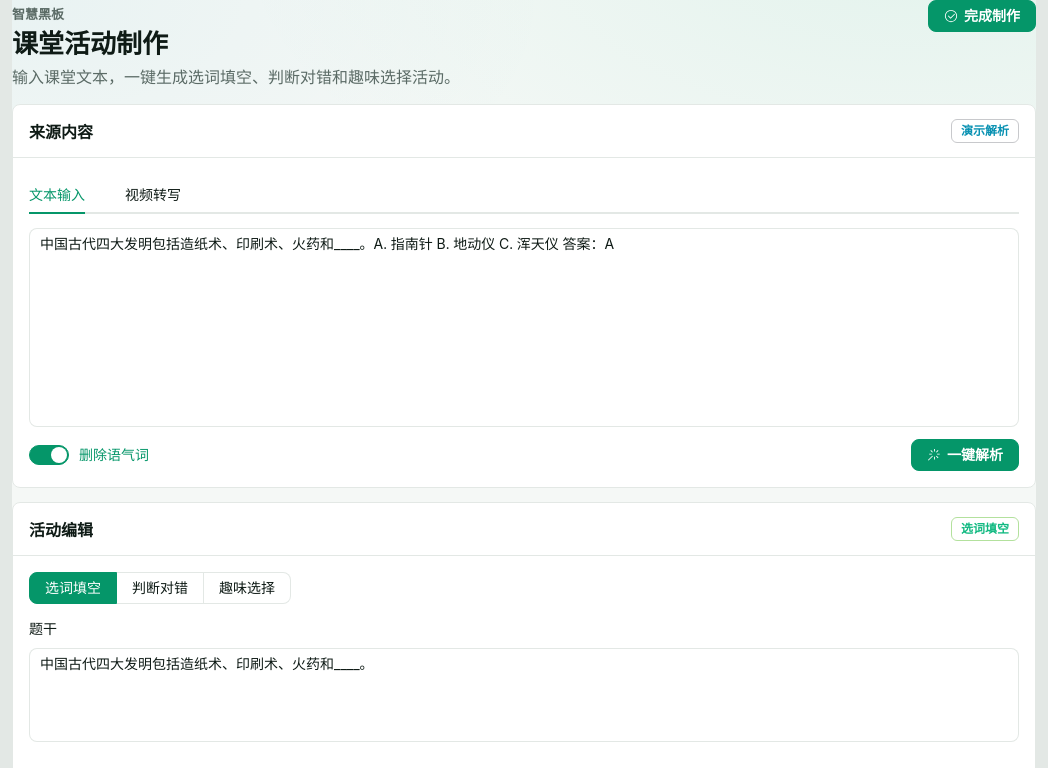
SmartBlackboardView › rebuilds options when switching from judgement back to cloze
Step 1. Click the radio button with test id "blackboard-type-judgement" → (160, 588), box [117, 572, 204, 604]
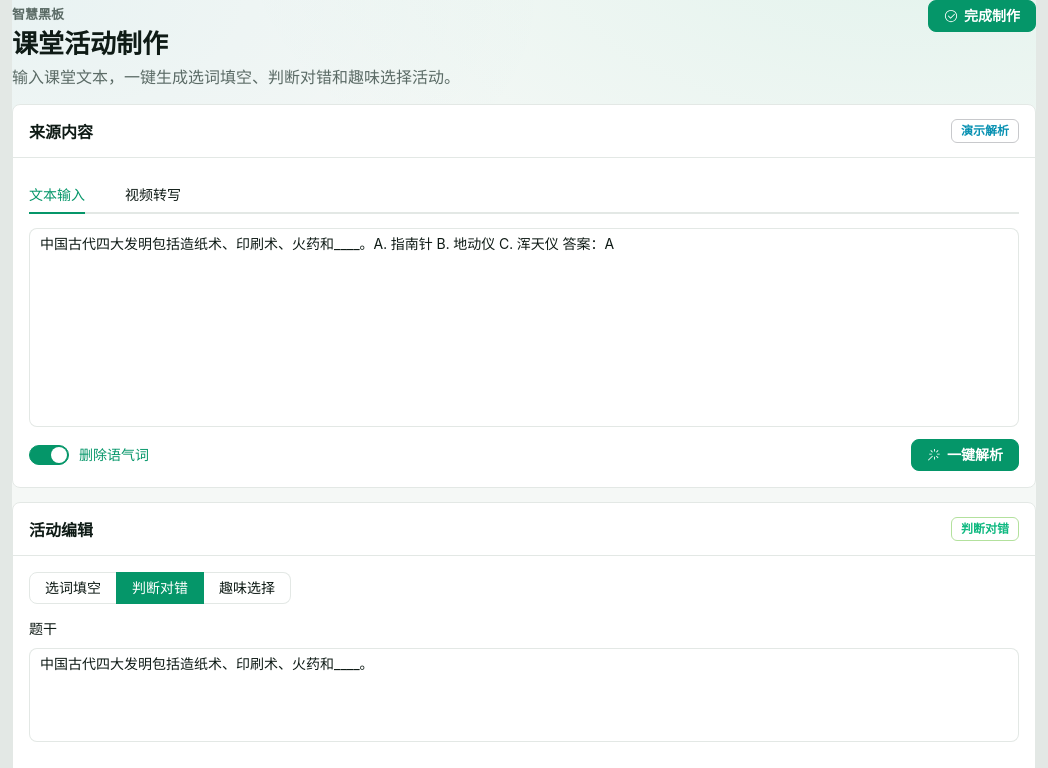
Step 2. Click the radio button with test id "blackboard-type-cloze" → (73, 588), box [29, 572, 117, 604]
(page scrolled)
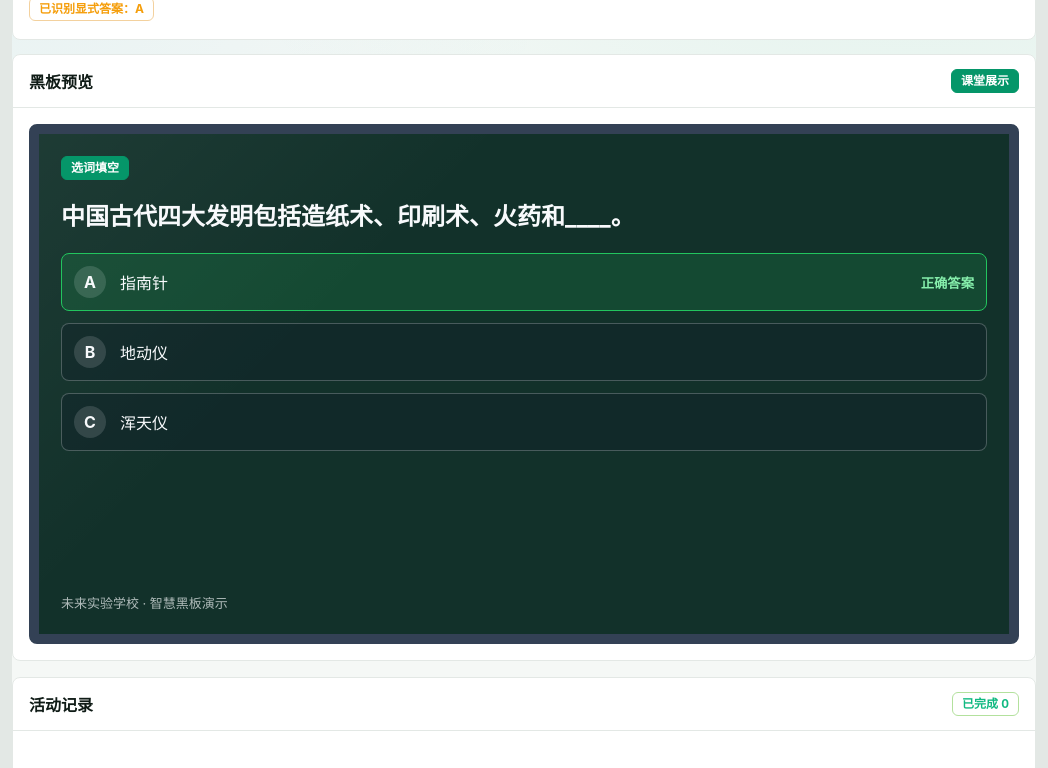
Expected: the element with test id "blackboard-preview" shows "____", [61, 202, 635, 231]
Now the element with test id "blackboard-preview" shows "指南针", box [120, 273, 168, 293]
